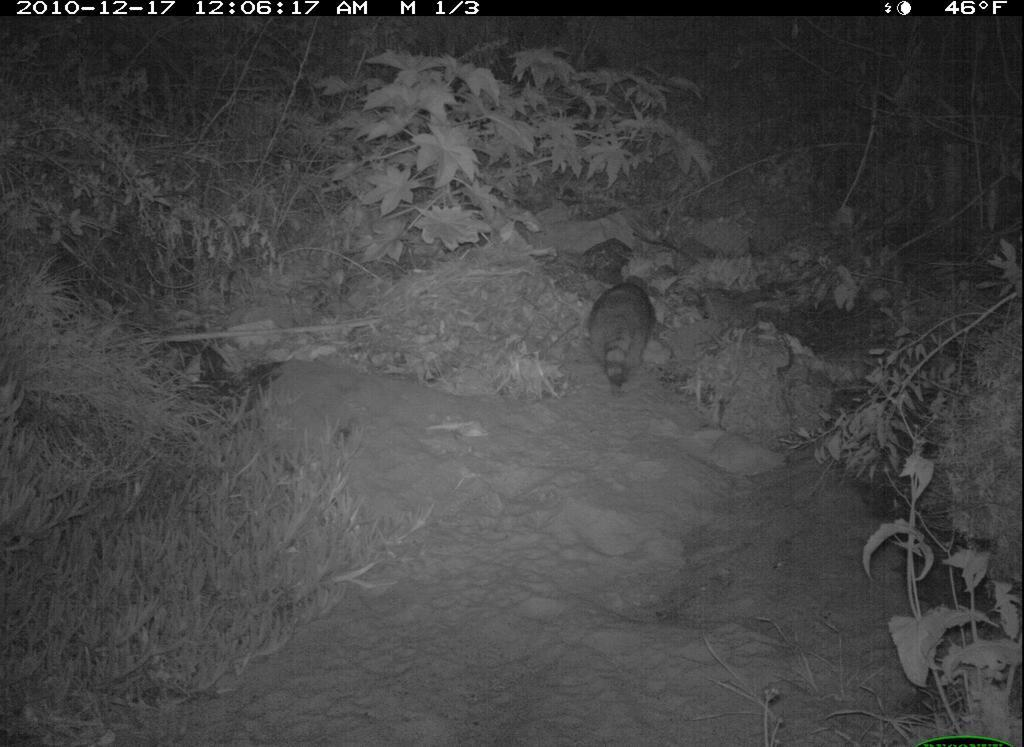raccoon: (578, 272, 674, 392)
